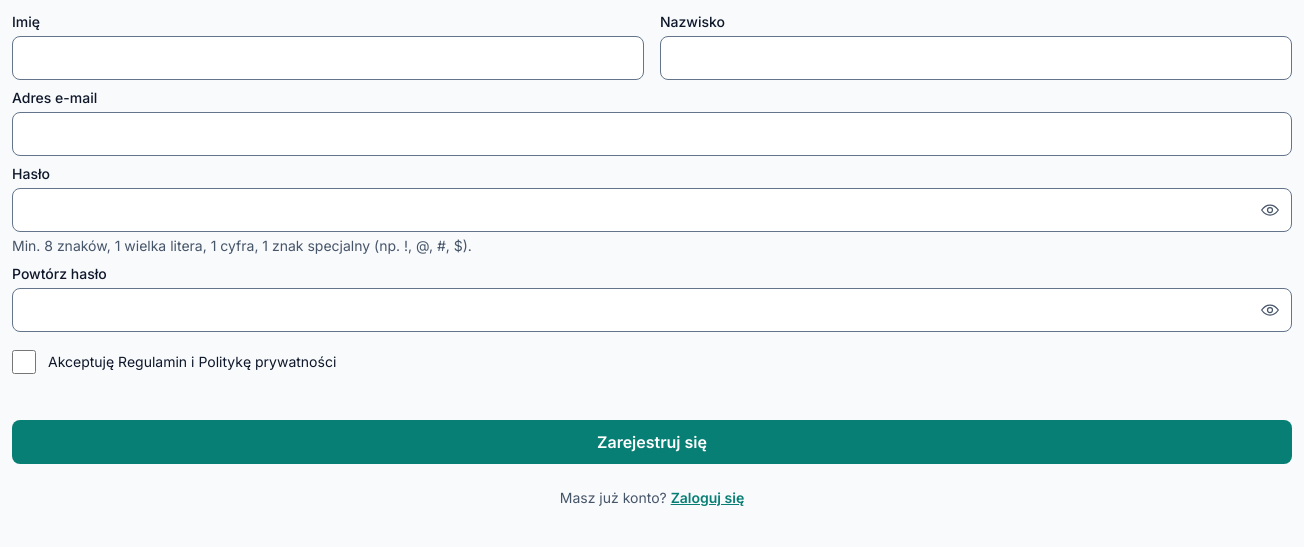
Scenario: RegisterForm › shows a taken e-mail on the e-mail field, not in a banner
Type "Jan" into the field labelled "Imię".
click(328, 58); type("Jan")  # box 12,36 -> 644,80
Type "Kowalski" into the field labelled "Nazwisko".
click(976, 58); type("Kowalski")  # box 660,36 -> 1292,80
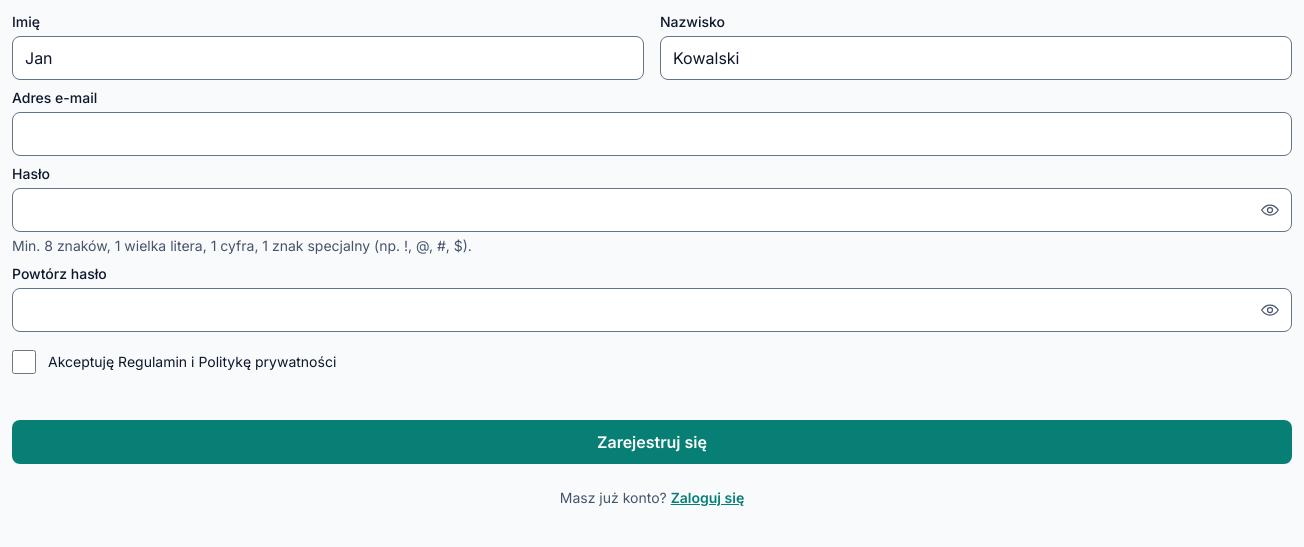
Type "jan@example.com" into the field labelled "Adres e-mail".
click(652, 134); type("jan@example.com")  # box 12,112 -> 1292,156
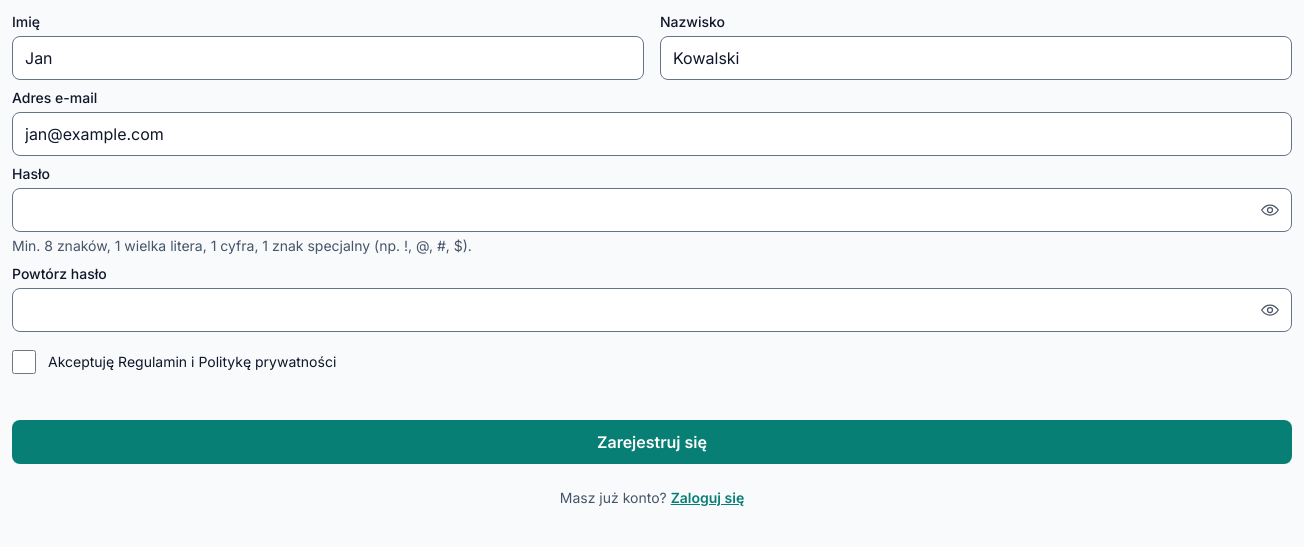
Type "Haslo123!" into the password field labelled "Hasło".
click(652, 210); type("Haslo123!")  # box 12,188 -> 1292,232
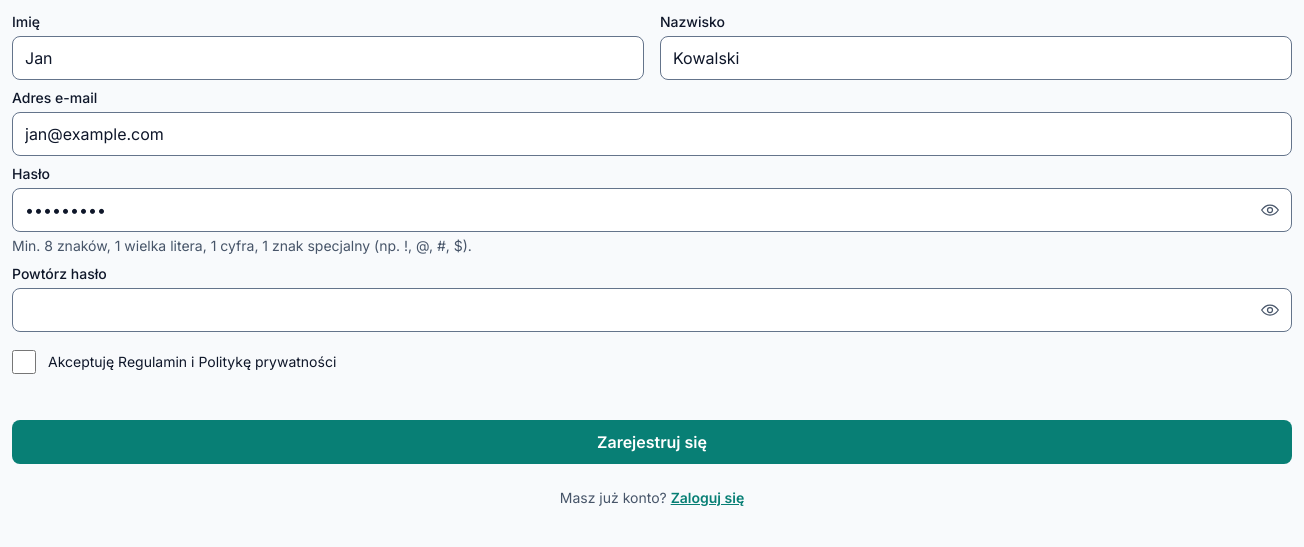
Type "Haslo123!" into the password field labelled "Powtórz hasło".
click(652, 310); type("Haslo123!")  # box 12,288 -> 1292,332
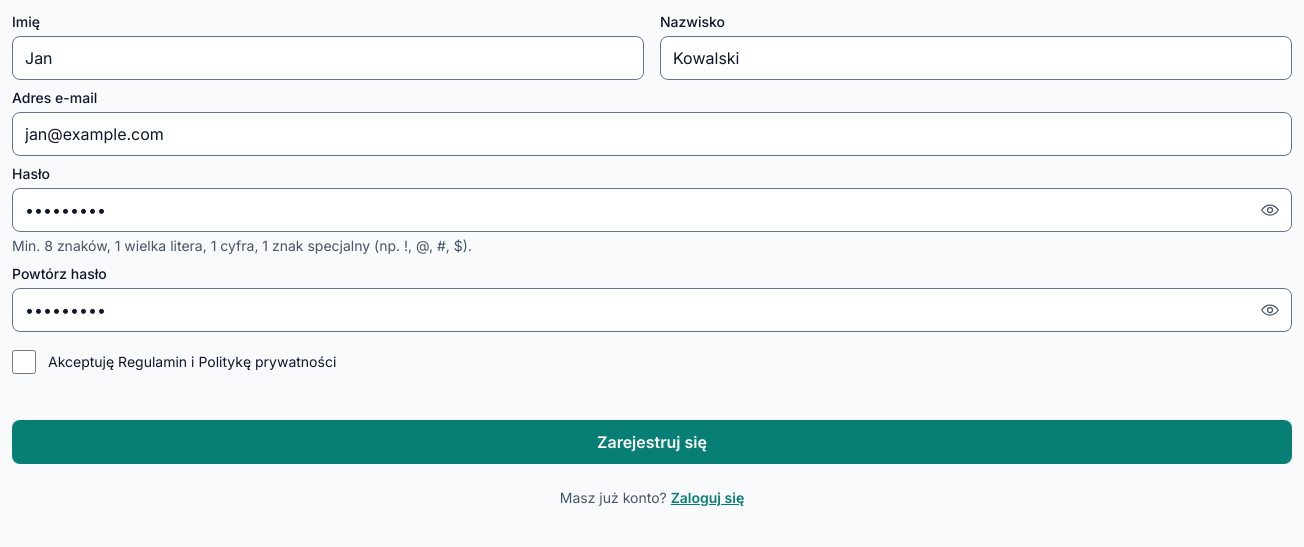
Click the checkbox labelled "Akceptuję Regulamin i Politykę prywatności".
click(24, 362)  # box 12,350 -> 36,374
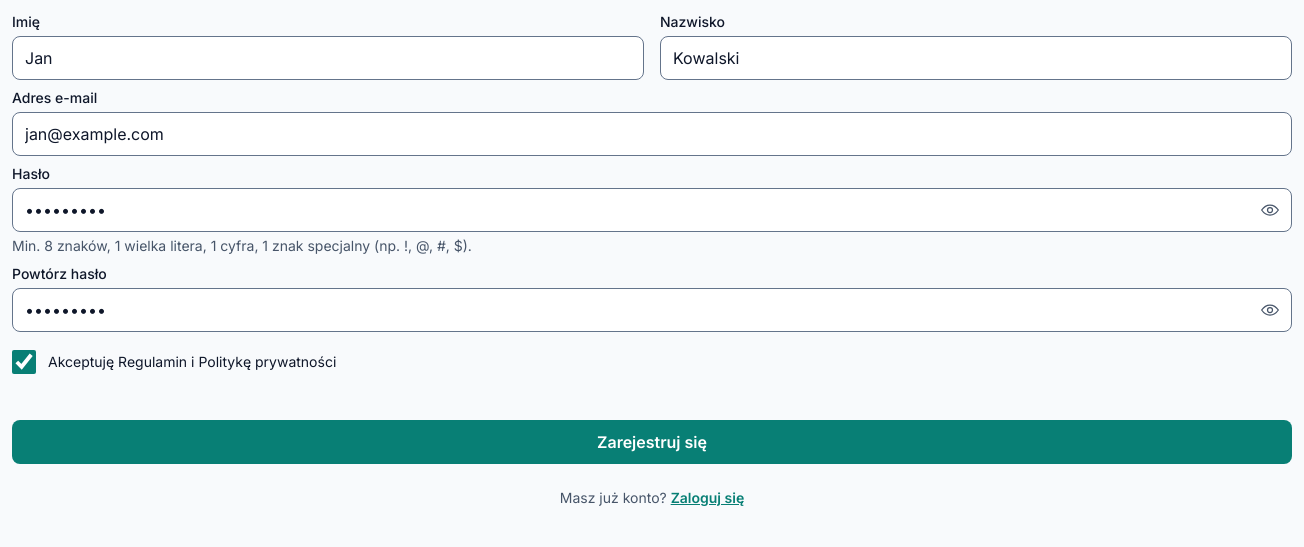
Click the button "Zarejestruj się".
click(652, 442)  # box 12,420 -> 1292,464
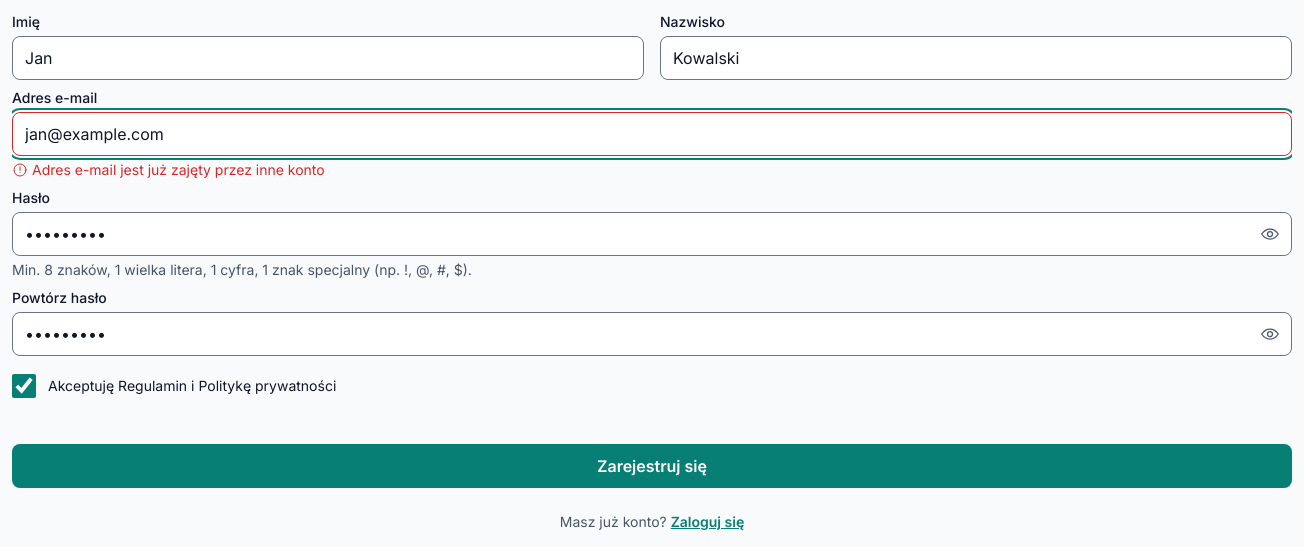
Now the number of messages is 1, box 12,161 -> 325,178
